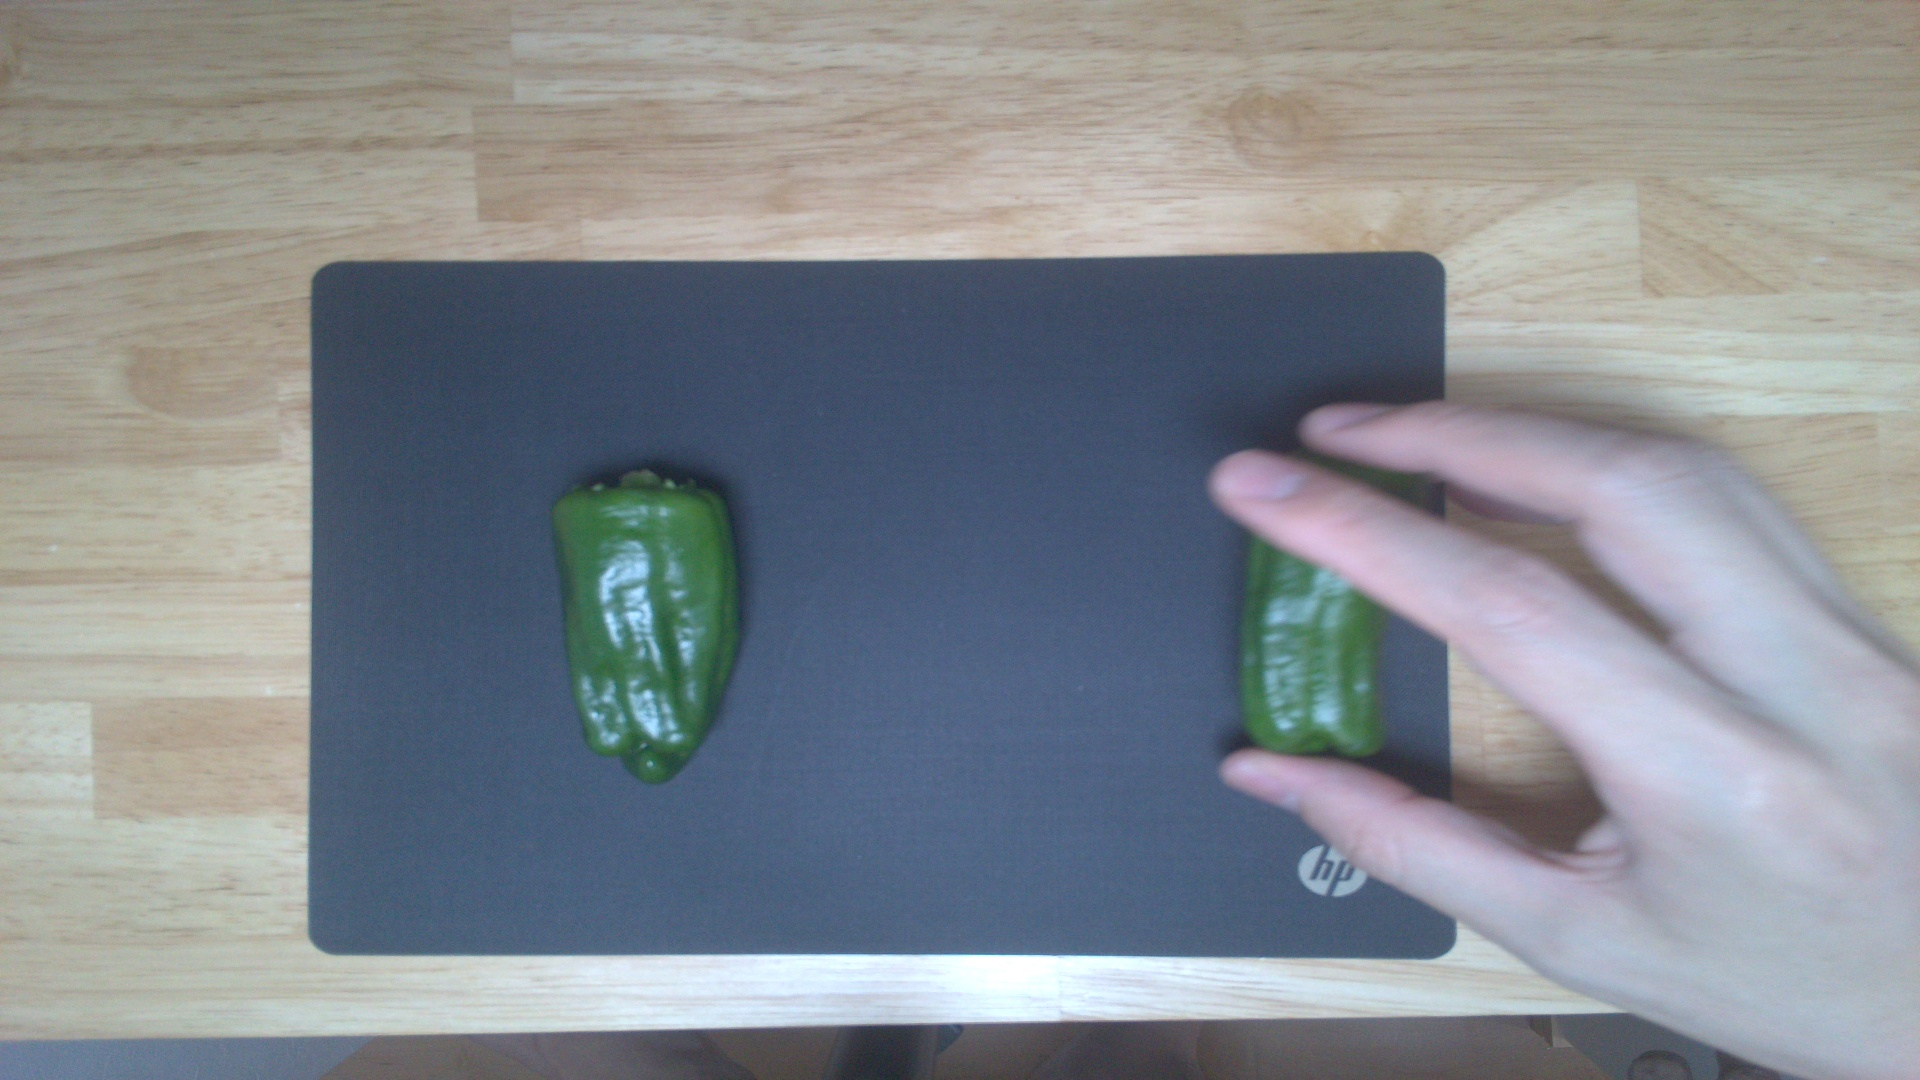Piman: (547, 467, 749, 785), (1236, 446, 1414, 756)
